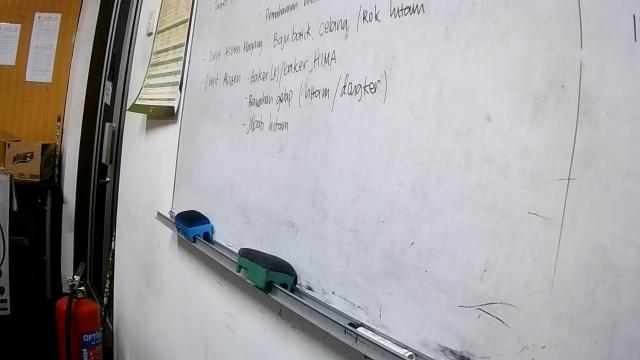APAR: (55, 261, 104, 359)
Whiteboard: (162, 0, 639, 358)
